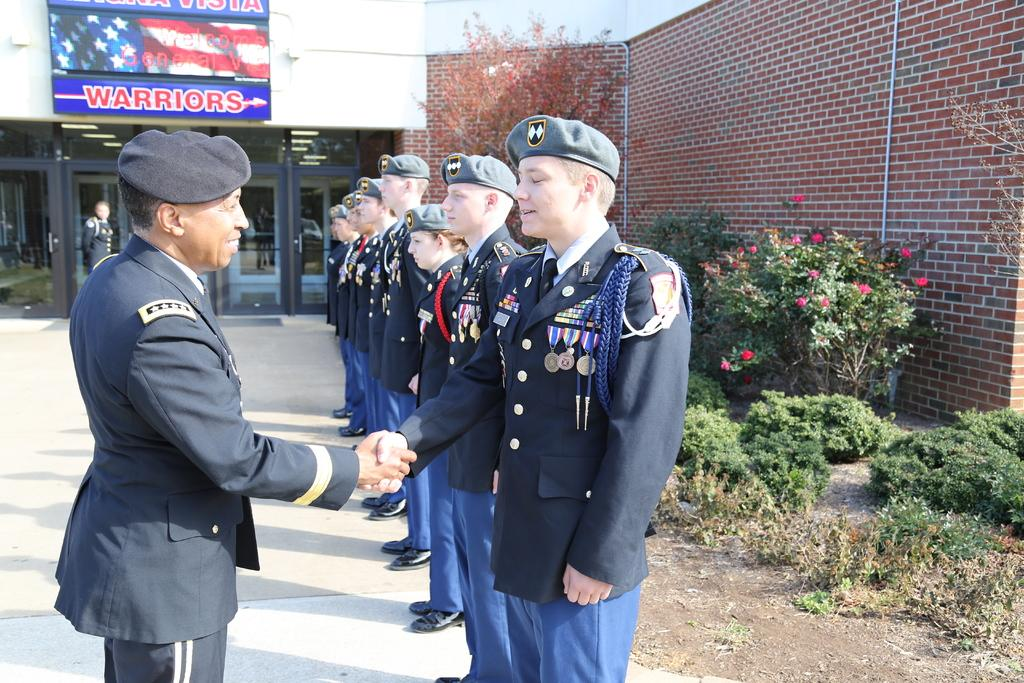Hat: (113, 134, 254, 206), (508, 116, 624, 174), (440, 150, 518, 212), (376, 154, 428, 176), (406, 205, 450, 231), (360, 178, 382, 200), (330, 206, 346, 218), (344, 195, 361, 204)
